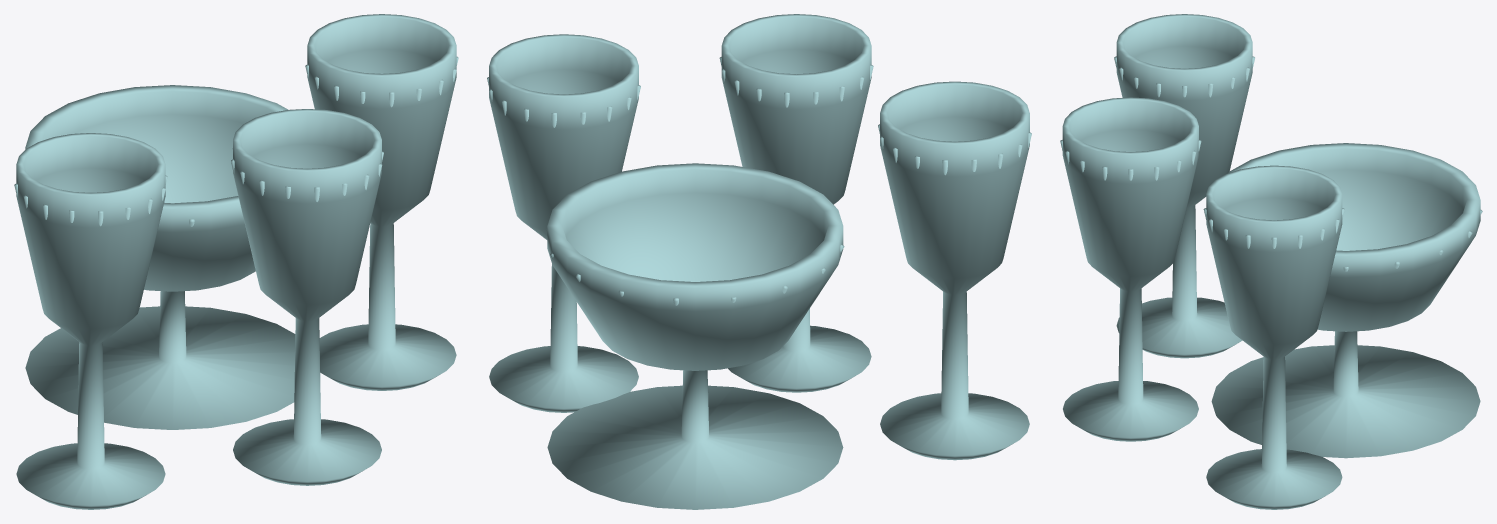
3 views of the same model, side by side, from view 1: azimuth 30°, elevation 25°; view 2: azimuth 150°, elevation 25°; view 3: azimuth 270°, elevation 25° (orthographic). The views are drawn at different scales.
Parts seen in each view (by area): view 1: TI008 / faceted cut-glass bowl and stem.003, TI008 / faceted cut-glass bowl and stem, TI008 / faceted cut-glass bowl and stem.001, TI008 / faceted cut-glass bowl and stem.002; view 2: TI008 / faceted cut-glass bowl and stem.003, TI008 / faceted cut-glass bowl and stem, TI008 / faceted cut-glass bowl and stem.002, TI008 / faceted cut-glass bowl and stem.001; view 3: TI008 / faceted cut-glass bowl and stem.003, TI008 / faceted cut-glass bowl and stem.001, TI008 / faceted cut-glass bowl and stem.002, TI008 / faceted cut-glass bowl and stem.
Part boxes in pixels (<box>): TI008 / faceted cut-glass bowl and stem.003: <box>25,85,295,429</box>; TI008 / faceted cut-glass bowl and stem: <box>16,133,165,509</box>; TI008 / faceted cut-glass bowl and stem.001: <box>233,109,381,485</box>; TI008 / faceted cut-glass bowl and stem.002: <box>307,14,456,390</box>; TI008 / faceted cut-glass bowl and stem.003: <box>547,163,843,509</box>; TI008 / faceted cut-glass bowl and stem: <box>880,81,1029,460</box>; TI008 / faceted cut-glass bowl and stem.002: <box>489,34,638,412</box>; TI008 / faceted cut-glass bowl and stem.001: <box>721,14,871,392</box>; TI008 / faceted cut-glass bowl and stem.003: <box>1211,143,1480,458</box>; TI008 / faceted cut-glass bowl and stem.001: <box>1062,97,1198,441</box>; TI008 / faceted cut-glass bowl and stem.002: <box>1206,165,1342,509</box>; TI008 / faceted cut-glass bowl and stem: <box>1116,14,1252,358</box>.
Bounding box in the file's own units: 2.79 × 1.8 × 2.36.
